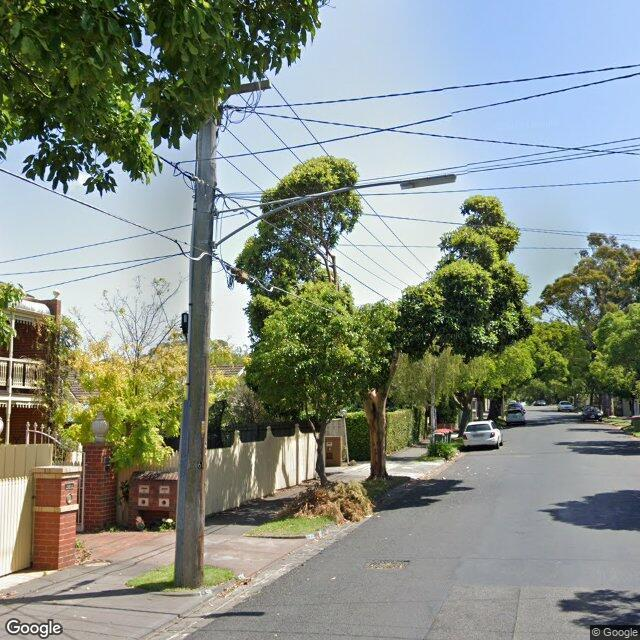crossarm: (141, 79, 272, 108)
streetlight: (208, 175, 457, 248)
timber-pole: (173, 108, 220, 588)
